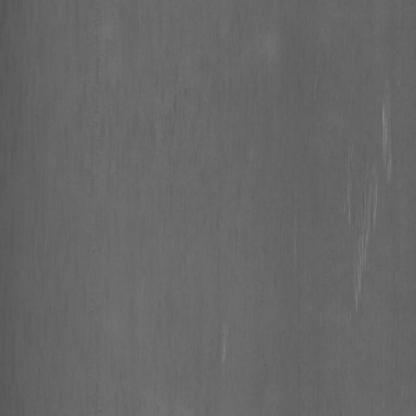silk_spot: (310, 85, 402, 326)
